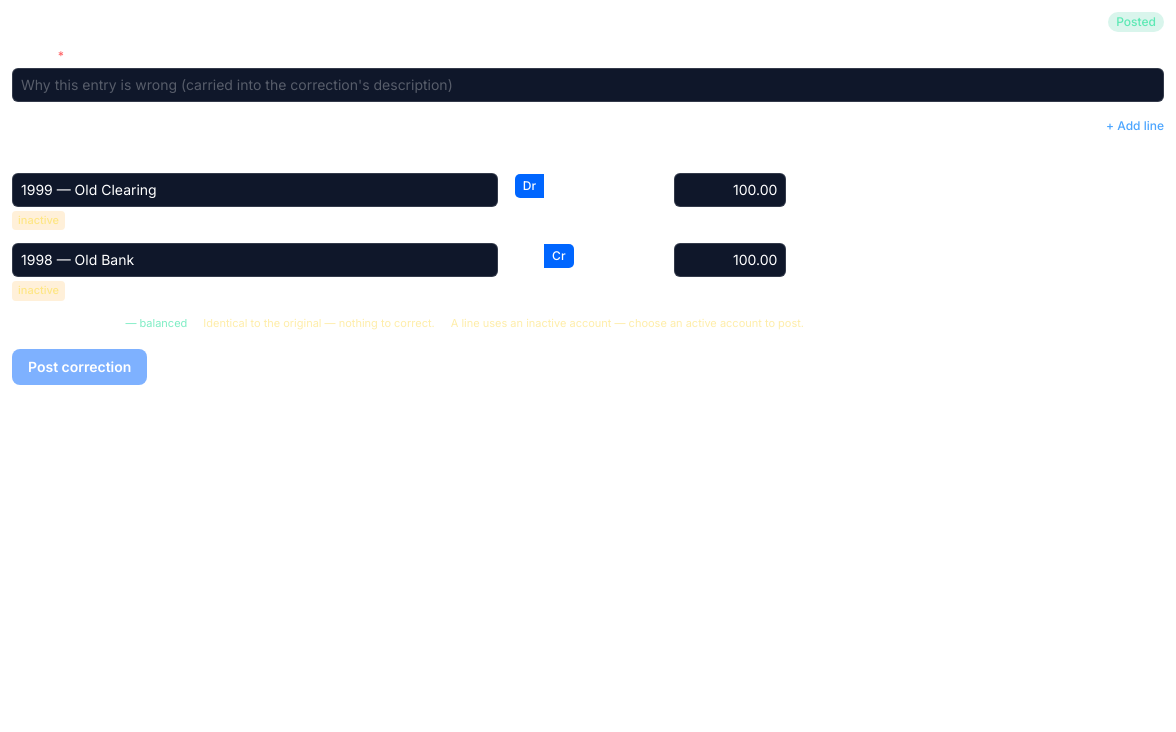
Scenario: PostedCorrectionEditor — active accounts only (D-S85-15) › tags a line on an inactive account and keeps Post disabled until every line is active
In the field with placeholder "Why this entry is wrong": (588, 85) [12,68,1164,102], type "Accounts were retired"
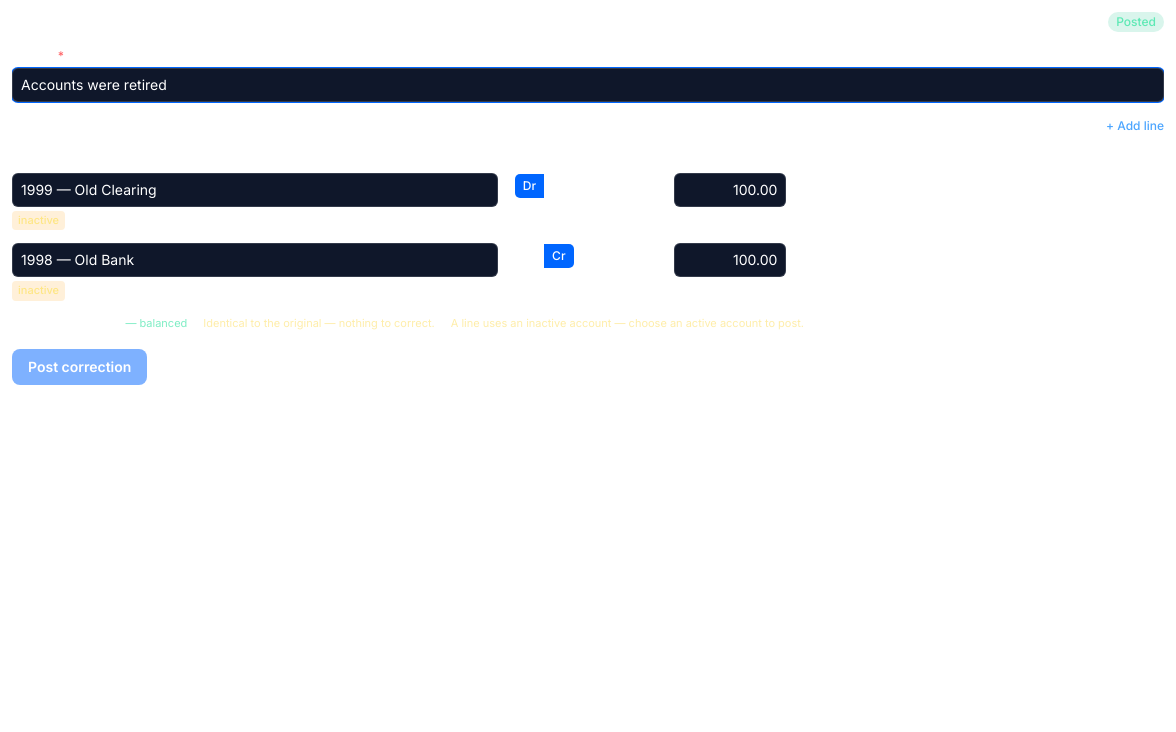
Expected: the text "inactive" is shown 2 times, [12,211,65,230]; [12,281,65,301]
Expected: the button "Post correction" is disabled, [12,349,147,385]
# One line fixed: the set is valid, balanced and changed — still blocked.
Click the 1st dropdown named "Account": (255, 190) [12,173,498,207]
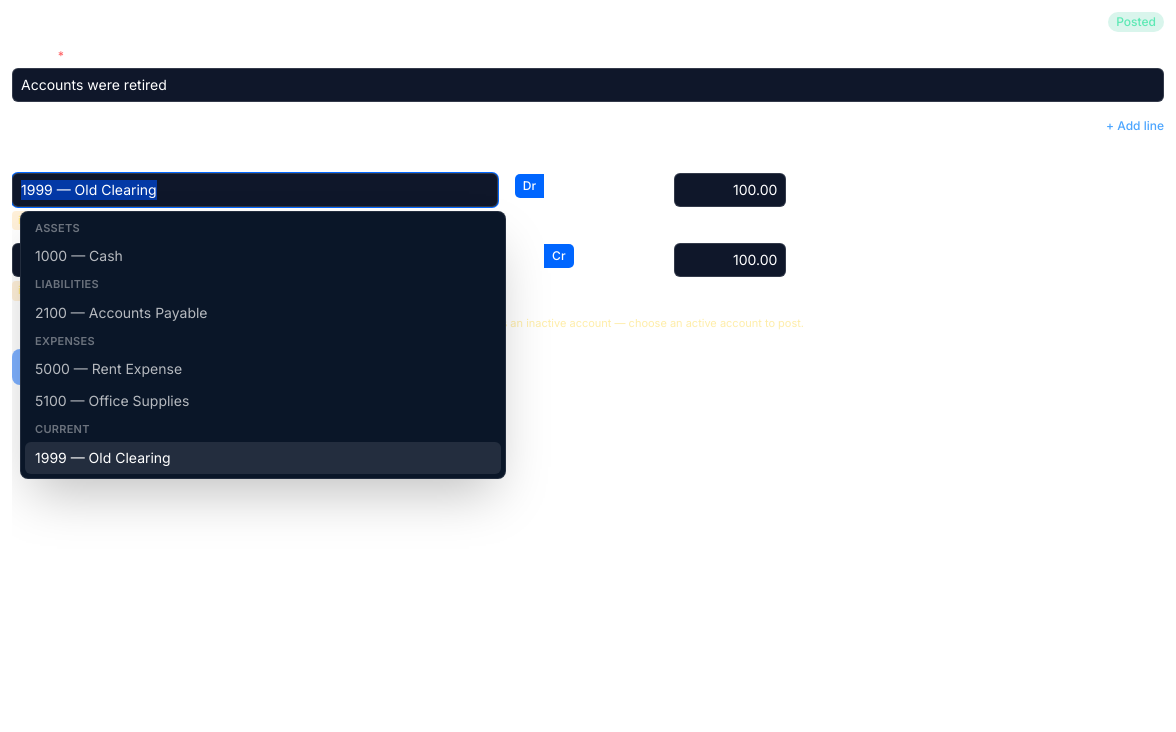
Type keys "5000{Enter}"
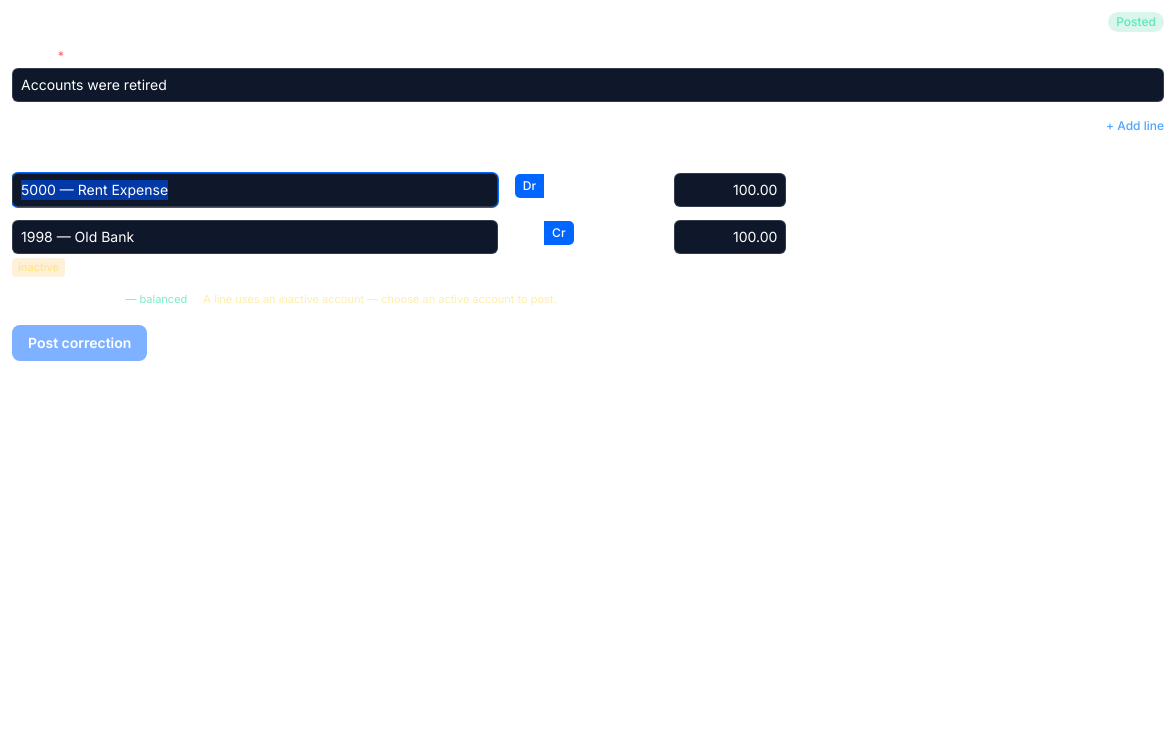
Expected: the button "Post correction" is disabled, [12,325,147,361]
Result: the text "inactive" is shown once at [12,258,65,277]
# Every line on an active account: Post opens up.
Click the 2nd dropdown named "Account": (255, 237) [12,220,498,254]
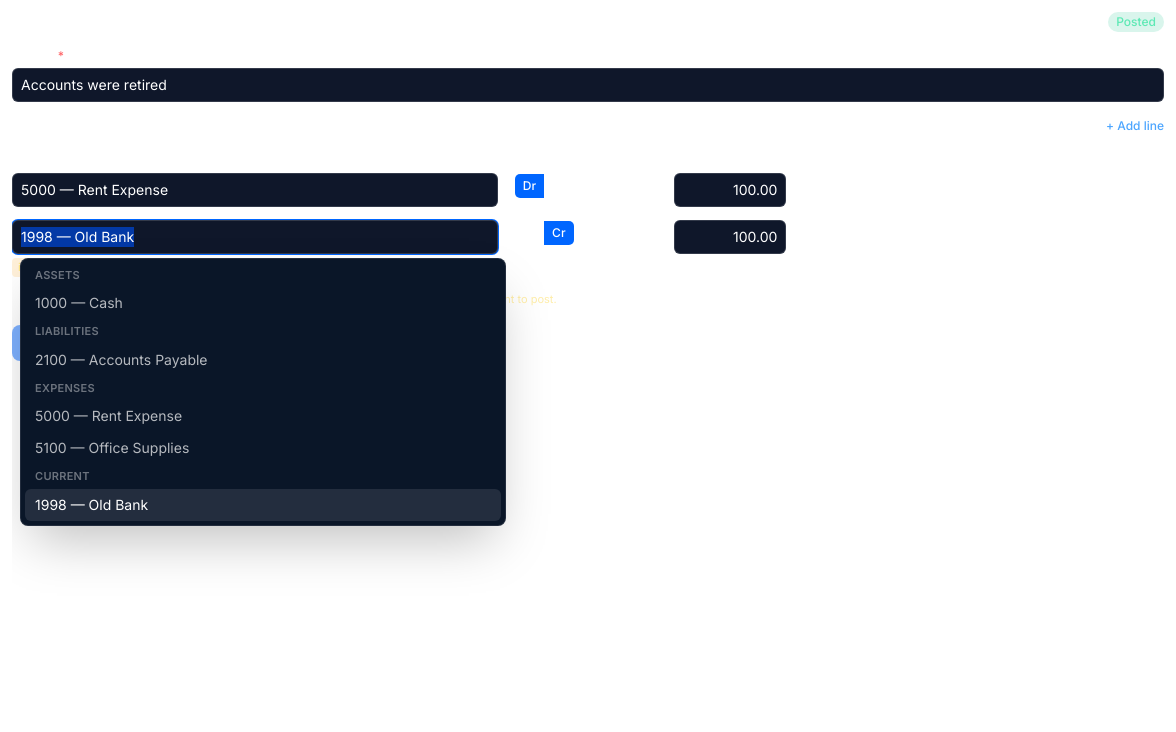
Type keys "1000{Enter}"
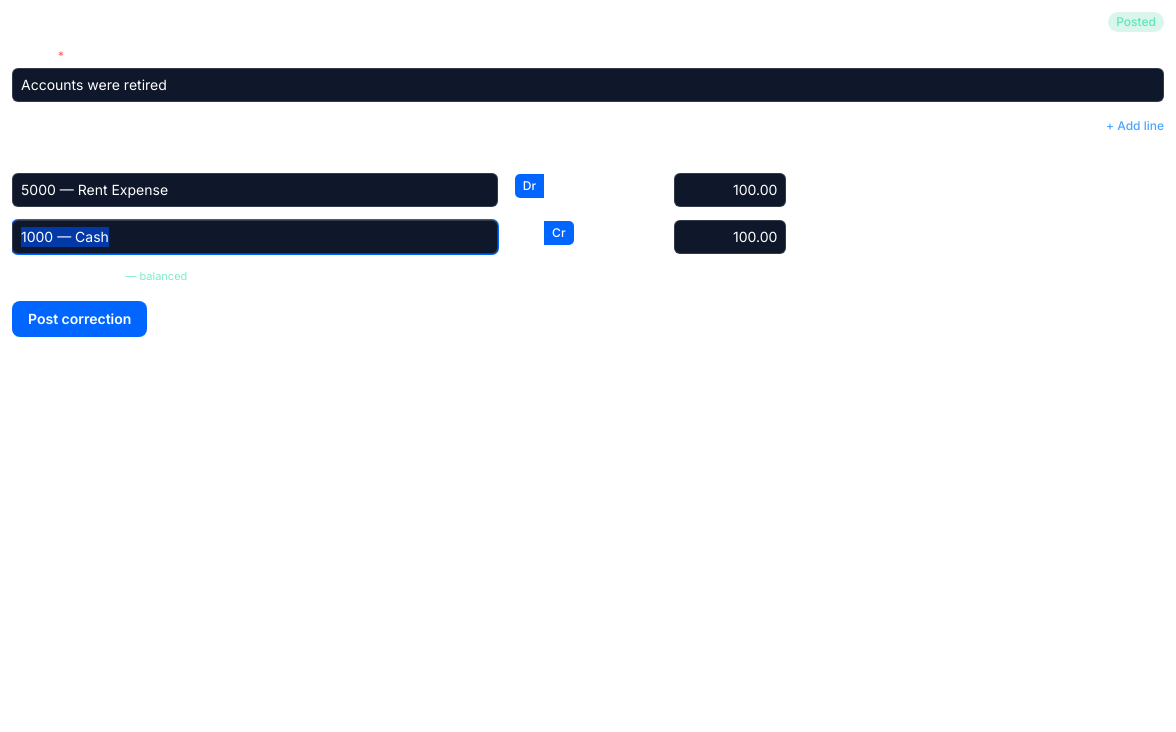
Result: the text "inactive" is gone
Result: the button "Post correction" is enabled at [12,301,147,337]
